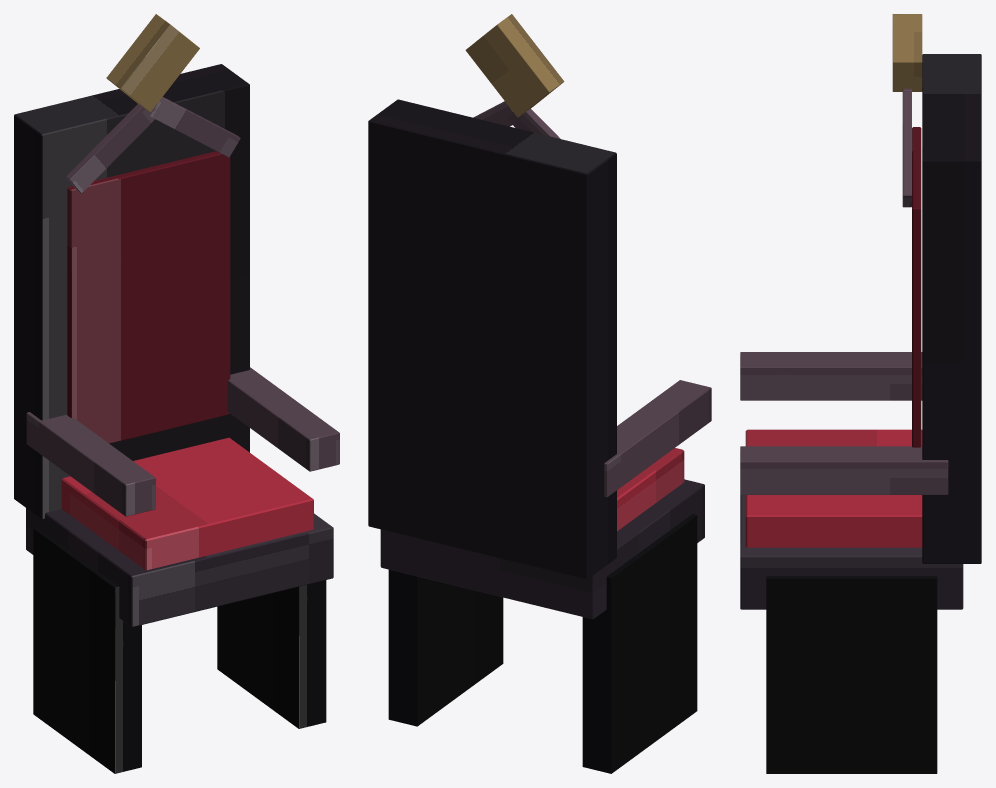
The model's file is gothic_highback_chair_crimson.glb.
3 views of the same model, side by side, from view 1: azimuth 30°, elevation 25°; view 2: azimuth 150°, elevation 25°; view 3: azimuth 270°, elevation 25° (orthographic). The views are drawn at different scales.
Parts seen in each view (by area): view 1: VelvetBack, TallBack, ChairLeg-0.3, VelvetSeat, ChairSeat, ChairLeg0.3, ChairArm-0.3, ChairArm0.3, ChairCrest, ChairArchLeft, ChairArchRight; view 2: TallBack, ChairLeg-0.3, ChairLeg0.3, ChairSeat, ChairArm-0.3, ChairCrest, VelvetSeat, ChairArchLeft, ChairArchRight; view 3: ChairLeg0.3, TallBack, VelvetSeat, ChairArm0.3, ChairArm-0.3, ChairSeat, VelvetBack, ChairCrest, ChairArchRight.
Part boxes in pixels (x1=…): VelvetBack: x1=67, y1=151, x2=230, y2=443; TallBack: x1=14, y1=64, x2=249, y2=519; ChairLeg-0.3: x1=33, y1=527, x2=141, y2=773; VelvetSeat: x1=61, y1=437, x2=313, y2=570; ChairSeat: x1=26, y1=508, x2=333, y2=627; ChairLeg0.3: x1=217, y1=580, x2=326, y2=728; ChairArm-0.3: x1=26, y1=412, x2=155, y2=516; ChairArm0.3: x1=227, y1=367, x2=339, y2=471; ChairCrest: x1=106, y1=14, x2=199, y2=112; ChairArchLeft: x1=66, y1=103, x2=160, y2=193; ChairArchRight: x1=150, y1=97, x2=240, y2=157; TallBack: x1=368, y1=99, x2=616, y2=579; ChairLeg-0.3: x1=582, y1=514, x2=697, y2=773; ChairLeg0.3: x1=388, y1=569, x2=503, y2=726; ChairSeat: x1=380, y1=479, x2=704, y2=619; ChairArm-0.3: x1=604, y1=380, x2=711, y2=497; ChairCrest: x1=465, y1=14, x2=564, y2=117; VelvetSeat: x1=617, y1=448, x2=684, y2=531; ChairArchLeft: x1=507, y1=108, x2=560, y2=138; ChairArchRight: x1=473, y1=101, x2=517, y2=126; ChairLeg0.3: x1=766, y1=576, x2=937, y2=773; TallBack: x1=922, y1=54, x2=981, y2=563; VelvetSeat: x1=745, y1=429, x2=922, y2=547; ChairArm0.3: x1=740, y1=446, x2=948, y2=494; ChairArm-0.3: x1=740, y1=352, x2=922, y2=400; ChairSeat: x1=740, y1=495, x2=963, y2=609; VelvetBack: x1=912, y1=127, x2=921, y2=447; ChairCrest: x1=892, y1=14, x2=922, y2=91; ChairArchRight: x1=902, y1=91, x2=911, y2=207.
Size of the model in its own units: 0.7 by 2.11 by 0.65.
Materials: 1 (1 with a texture image).
